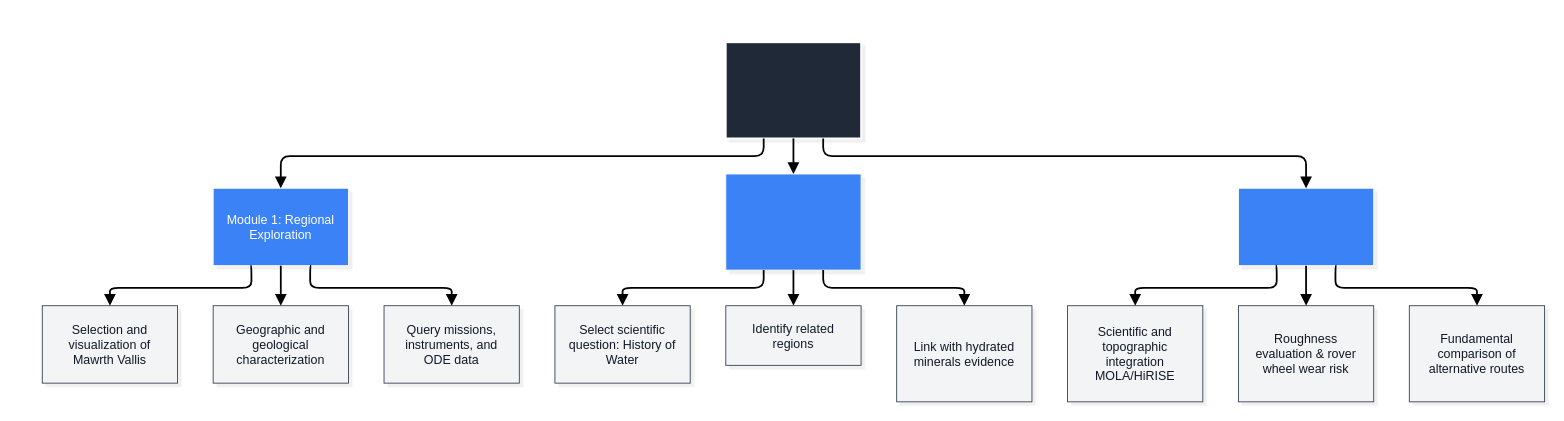
This 1564x421 diagram has some shape labels left out. Here are the shapes that lost their labels. From the top down, the centre of each, then its label:
(x=794, y=91): Martian Map Martian Exploration Platform
(x=795, y=223): Module 2: Scientific Question Exploration
(x=1307, y=228): Module 3: Data & Transitability Analysis
